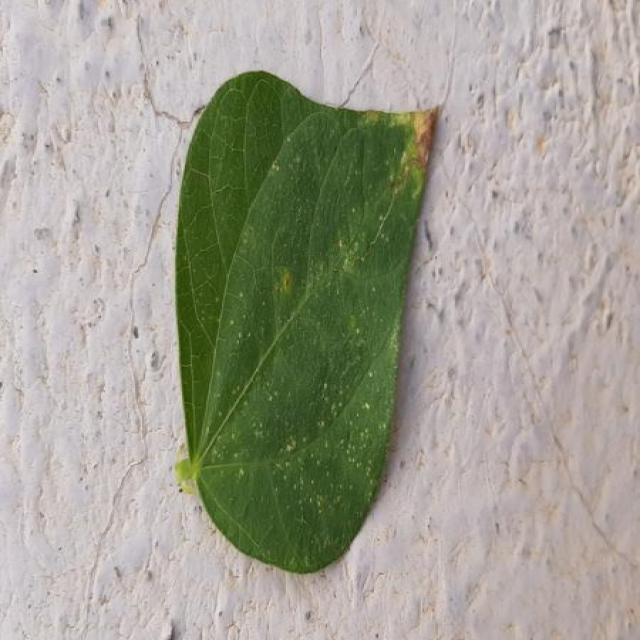beans: (177, 71, 435, 521)
defectedbeans: (297, 106, 437, 243)
